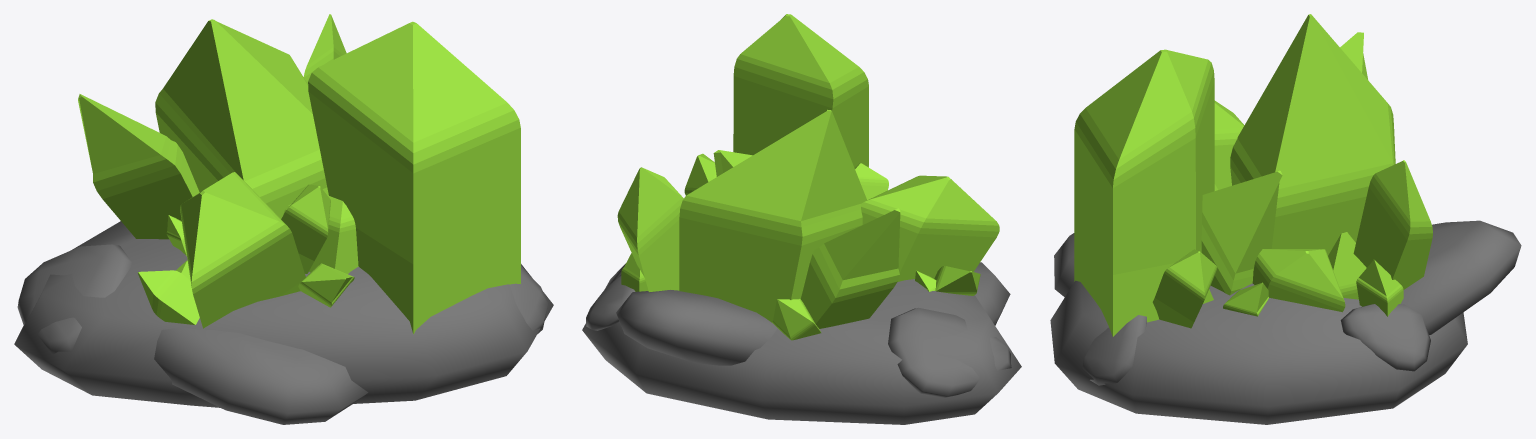
File: Uranium.fbx
3 renders of one model, left to right at view 1: azimuth 30°, elevation 25°; view 2: azimuth 150°, elevation 25°; view 3: azimuth 270°, elevation 25°, orthographic. The views are drawn at different scales.
Visible parts, largest first — view 1: UraniumStone, Stone; view 2: UraniumStone, Stone; view 3: UraniumStone, Stone.
Part boxes in pixels (x1,y1,x2,y2): UraniumStone: (78, 14, 520, 334); Stone: (14, 221, 553, 424); UraniumStone: (617, 14, 999, 340); Stone: (582, 262, 1021, 424); UraniumStone: (1074, 14, 1432, 336); Stone: (1050, 220, 1521, 424).
Bounding box in the file's own units: 35.89 × 26.48 × 32.71.
